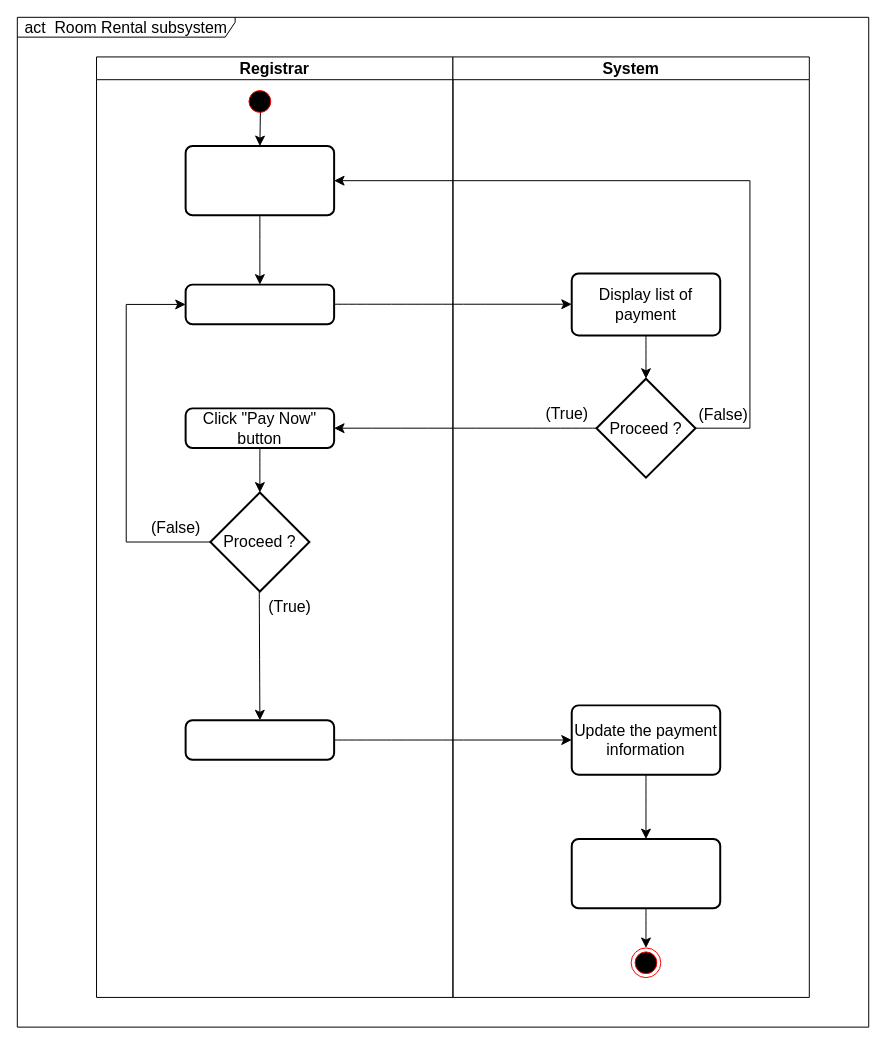
This 886x1044 diagram has some shape labels left out. The centre of each missing label's shape, as x and y in pixels:
Click "Payement Information": pixel 259 304
Click "Submit" button: pixel 259 739
Display notification: pixel 645 873
Go to "Student Portal Room Management" page: pixel 259 180
